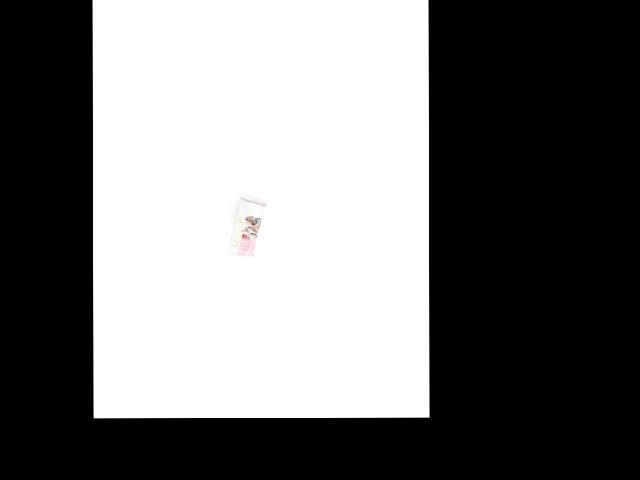chocolate: (226, 198, 268, 256)
